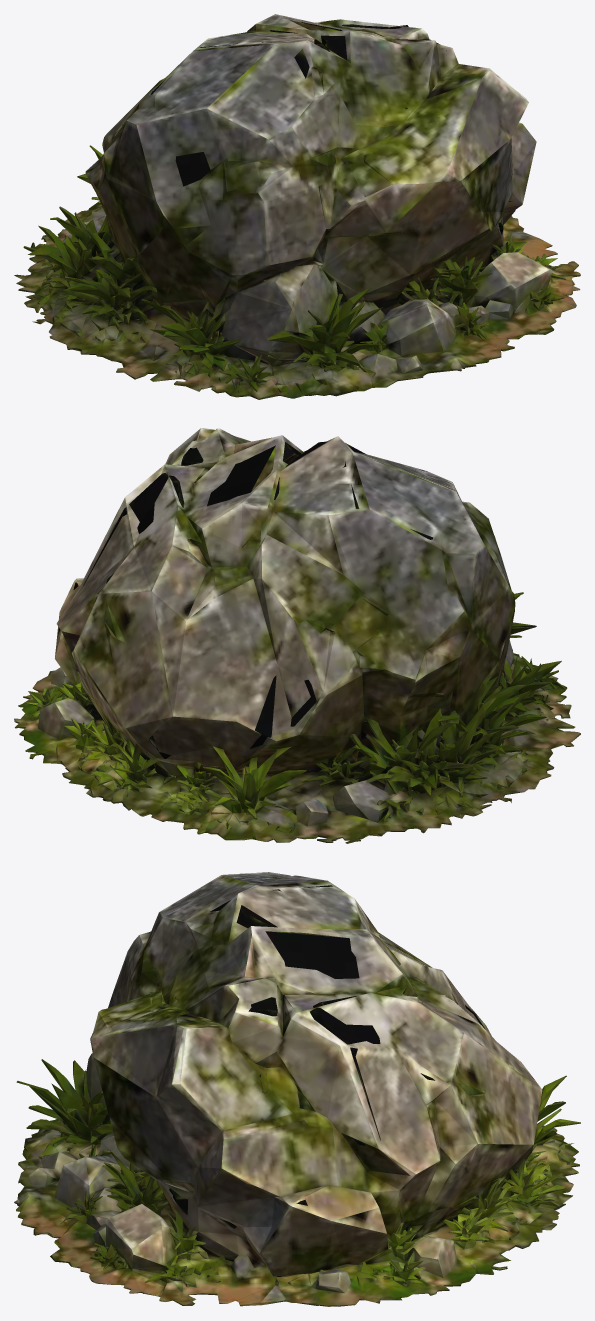
File: boulder.glb
The picture shows the model from 3 angles, top to bottom: view 1: azimuth 30°, elevation 25°; view 2: azimuth 150°, elevation 25°; view 3: azimuth 270°, elevation 25°; orthographic projection. The views are drawn at different scales.
Parts seen in each view (by area): view 1: geometry_0; view 2: geometry_0; view 3: geometry_0.
Boxes of the visible parts, x1,y1,x2,y2 form: geometry_0: (14,14,580,399); geometry_0: (14,428,580,843); geometry_0: (14,872,580,1306).
Size of the model in its own units: 0.9995 by 0.5579 by 0.9739.
1 material, 1 textured.
